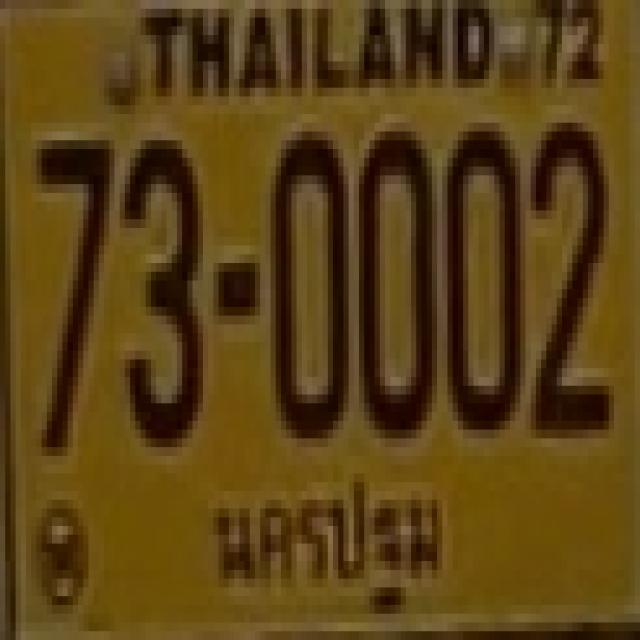0: (266, 127, 344, 434), (354, 123, 432, 430), (445, 123, 518, 430)
2: (528, 114, 606, 430)
3: (120, 132, 198, 438)
7: (31, 132, 109, 447)
NPT: (198, 466, 456, 621)
